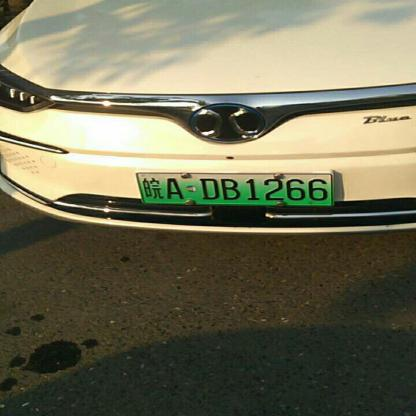lp: (137, 174, 333, 204)
